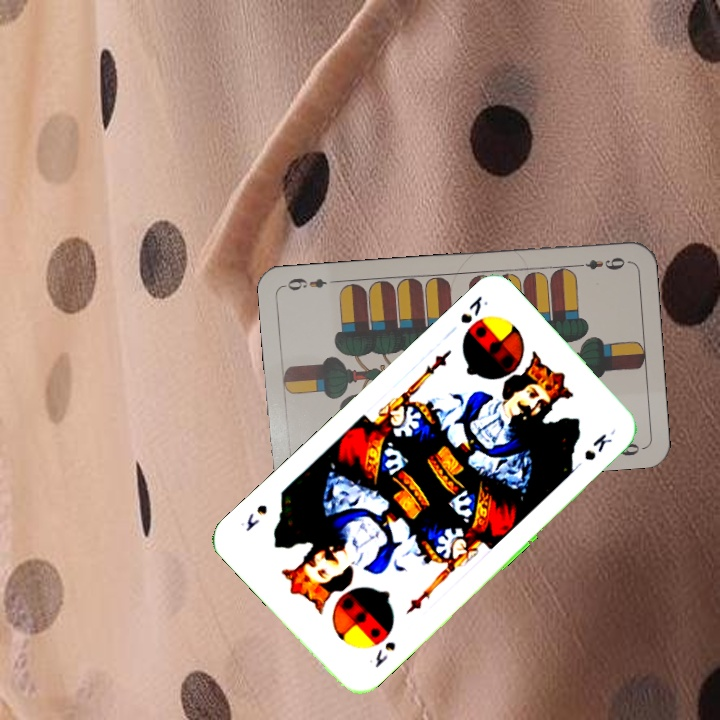E9: (571, 253, 630, 273)
SK: (456, 291, 491, 326), (371, 637, 399, 671)
